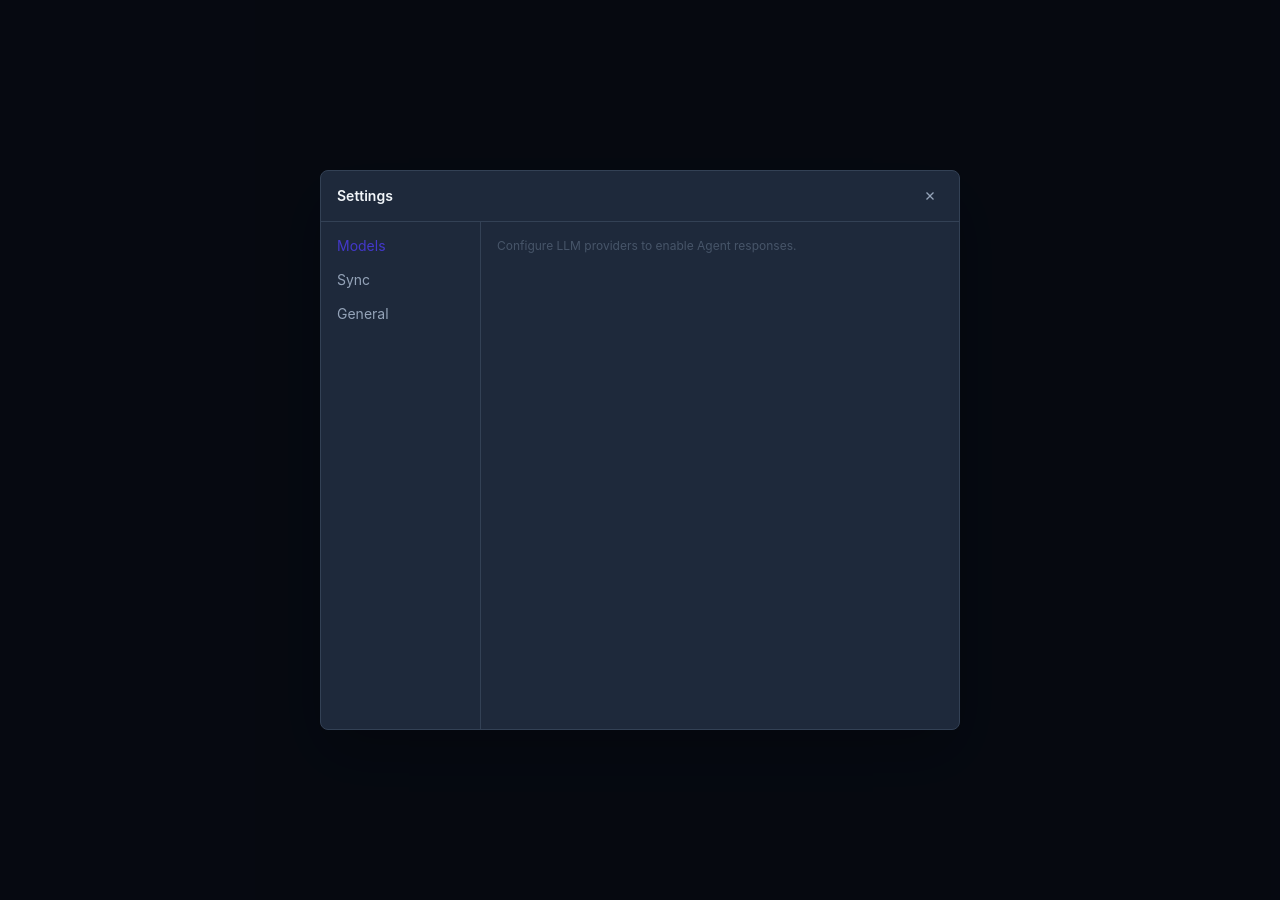
SettingsModal › should switch to sync tab
The width and height of the screenshot is (1280, 900).
Click the button "sync": (400, 280) [329,264,472,296]
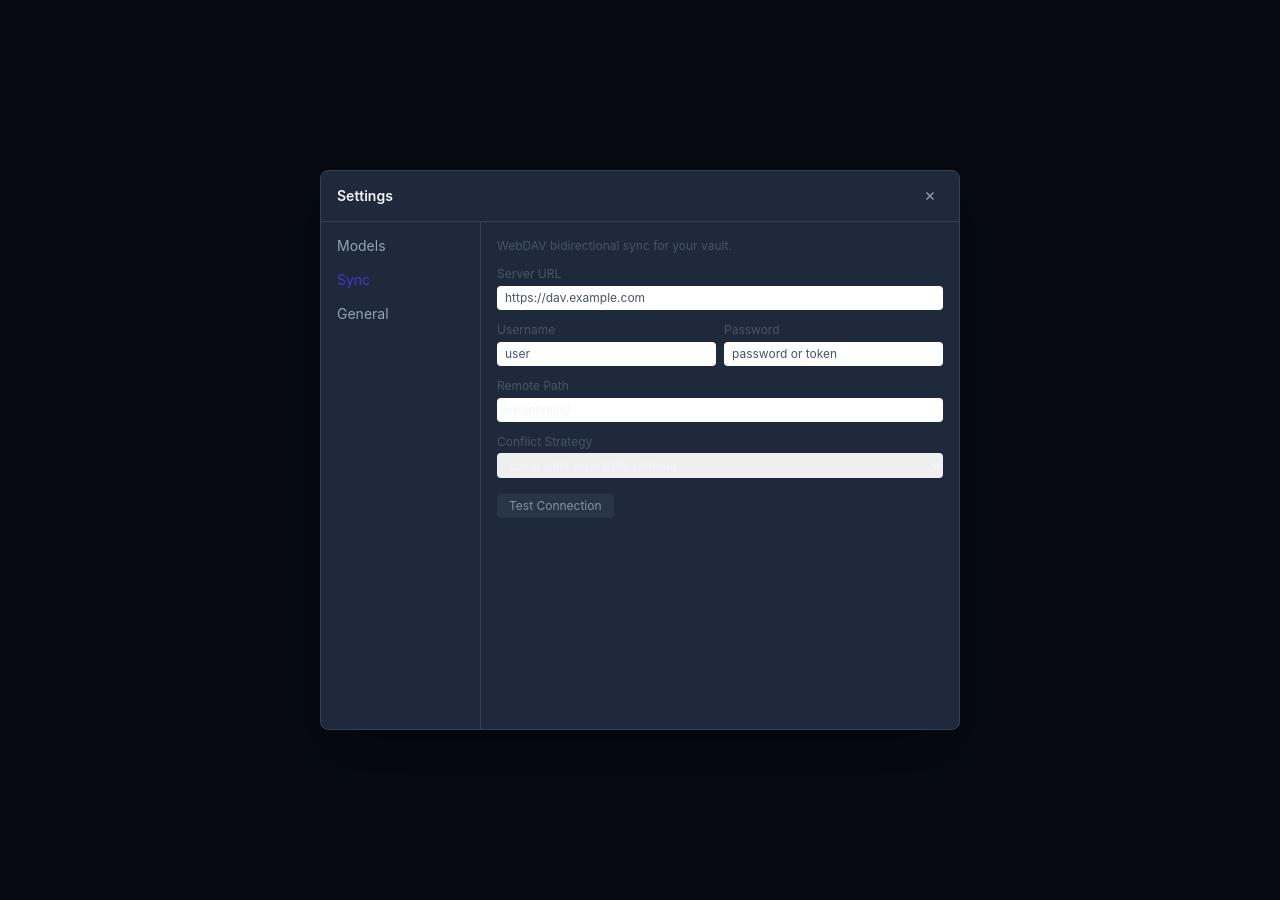
Check: the text "WebDAV bidirectional sync for your vault." is shown, box [497,238,732,253]
